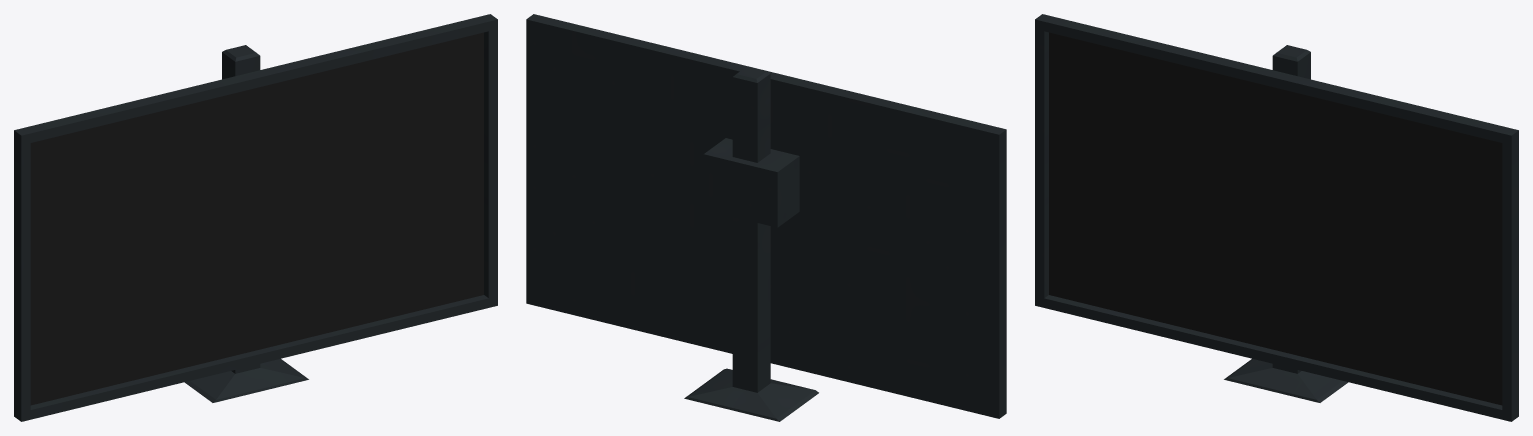
The model's file is Monitor_1.fbx.
3 views of the same model, side by side, from view 1: azimuth 30°, elevation 25°; view 2: azimuth 150°, elevation 25°; view 3: azimuth 330°, elevation 25° (orthographic).
Parts seen in each view (by area): view 1: Monitor_1; view 2: Monitor_1; view 3: Monitor_1.
Part boxes in pixels (left/top/right/bottom): Monitor_1: left=14, top=14, right=497, bottom=421; Monitor_1: left=526, top=14, right=1006, bottom=421; Monitor_1: left=1035, top=14, right=1518, bottom=421.
Bounding box in the file's own units: 0.8465 × 0.5525 × 0.1232.
